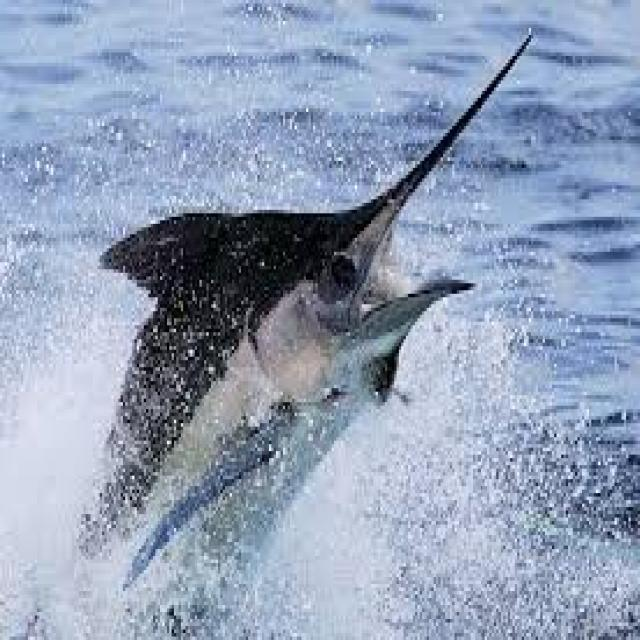Blue Marlin: (76, 31, 538, 612)
